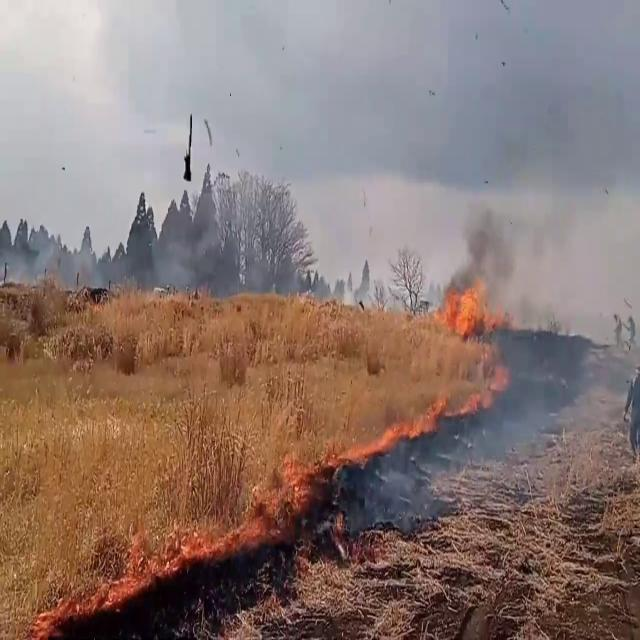Fire: (434, 272, 496, 338)
Smoke: (138, 170, 304, 310), (450, 164, 588, 302)
